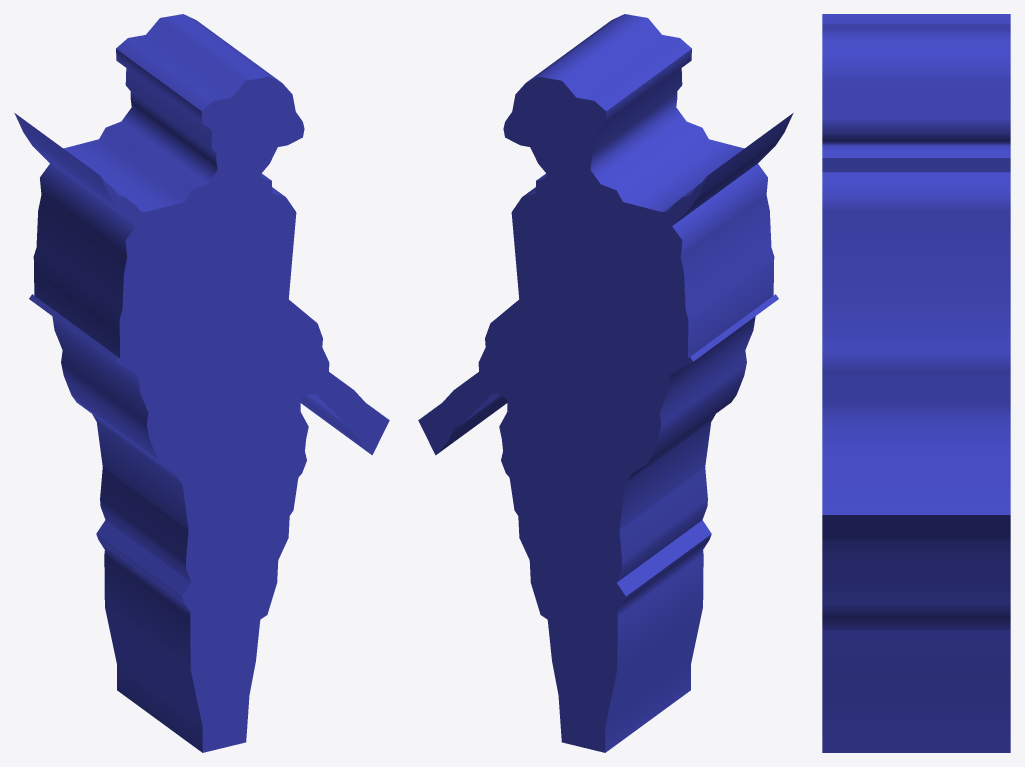
File: Soldier.fbx
3 views of the same model, side by side, from view 1: azimuth 30°, elevation 25°; view 2: azimuth 150°, elevation 25°; view 3: azimuth 270°, elevation 25° (orthographic). The views are drawn at different scales.
Parts seen in each view (by area): view 1: root; view 2: root; view 3: root.
Part boxes in pixels (x1,y1,x2,y2): root: (14,14,389,752); root: (418,14,793,752); root: (822,14,1010,752).
Bounding box in the file's own units: 0.1949 × 0.4254 × 0.1.
Materials: 1 (1 with a texture image).
